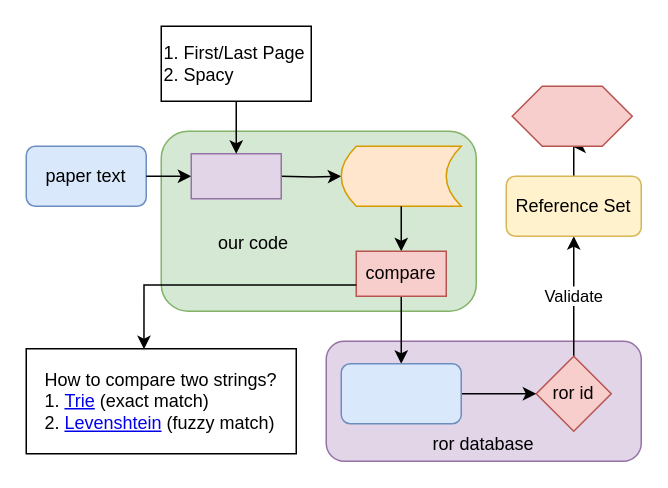
Some shapes in this 668 by 488 pixel diagram are drawn without their labels. Here are the shapes that lost their labels. From the top down, the centre of each, then its label:
[571,115]: Test Result
[235,175]: extract
[400,175]: possible strings
[400,393]: ror ralated strings
